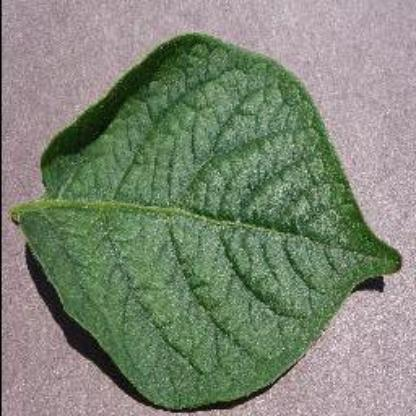Healthy-plant: (10, 27, 406, 411)
